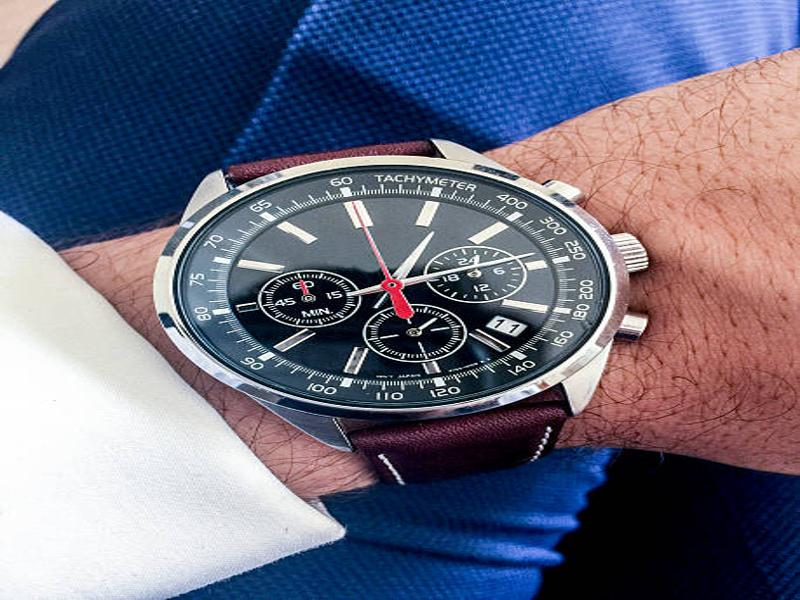watch: (148, 134, 652, 495)
